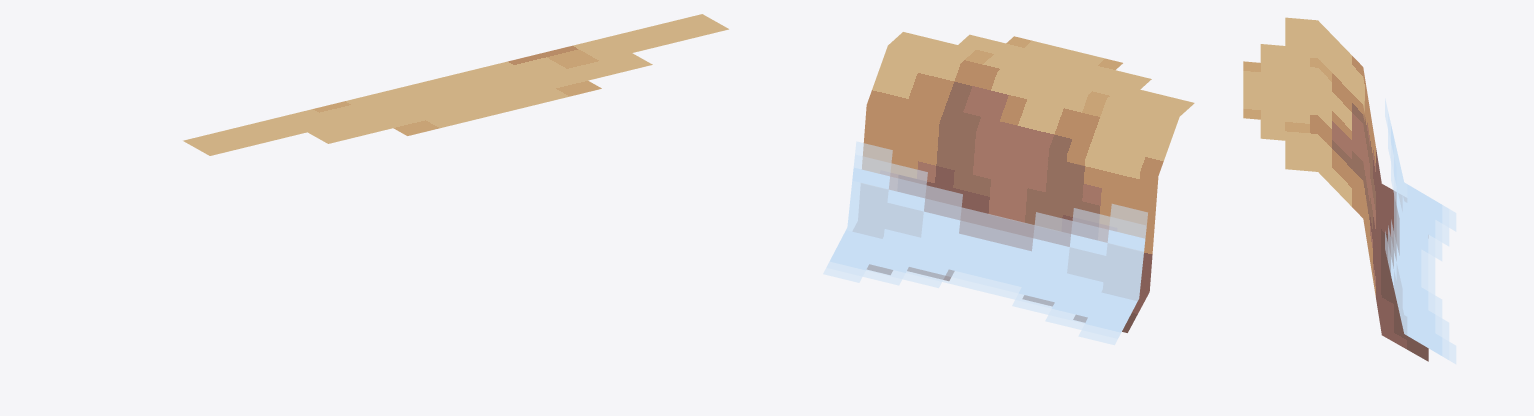
3 views of the same model, side by side, from view 1: azimuth 30°, elevation 25°; view 2: azimuth 150°, elevation 25°; view 3: azimuth 270°, elevation 25° (orthographic). The views are drawn at different scales.
Bounding box in the file's own units: 1 × 0.7266 × 0.7695.
2 materials, 2 textured.
